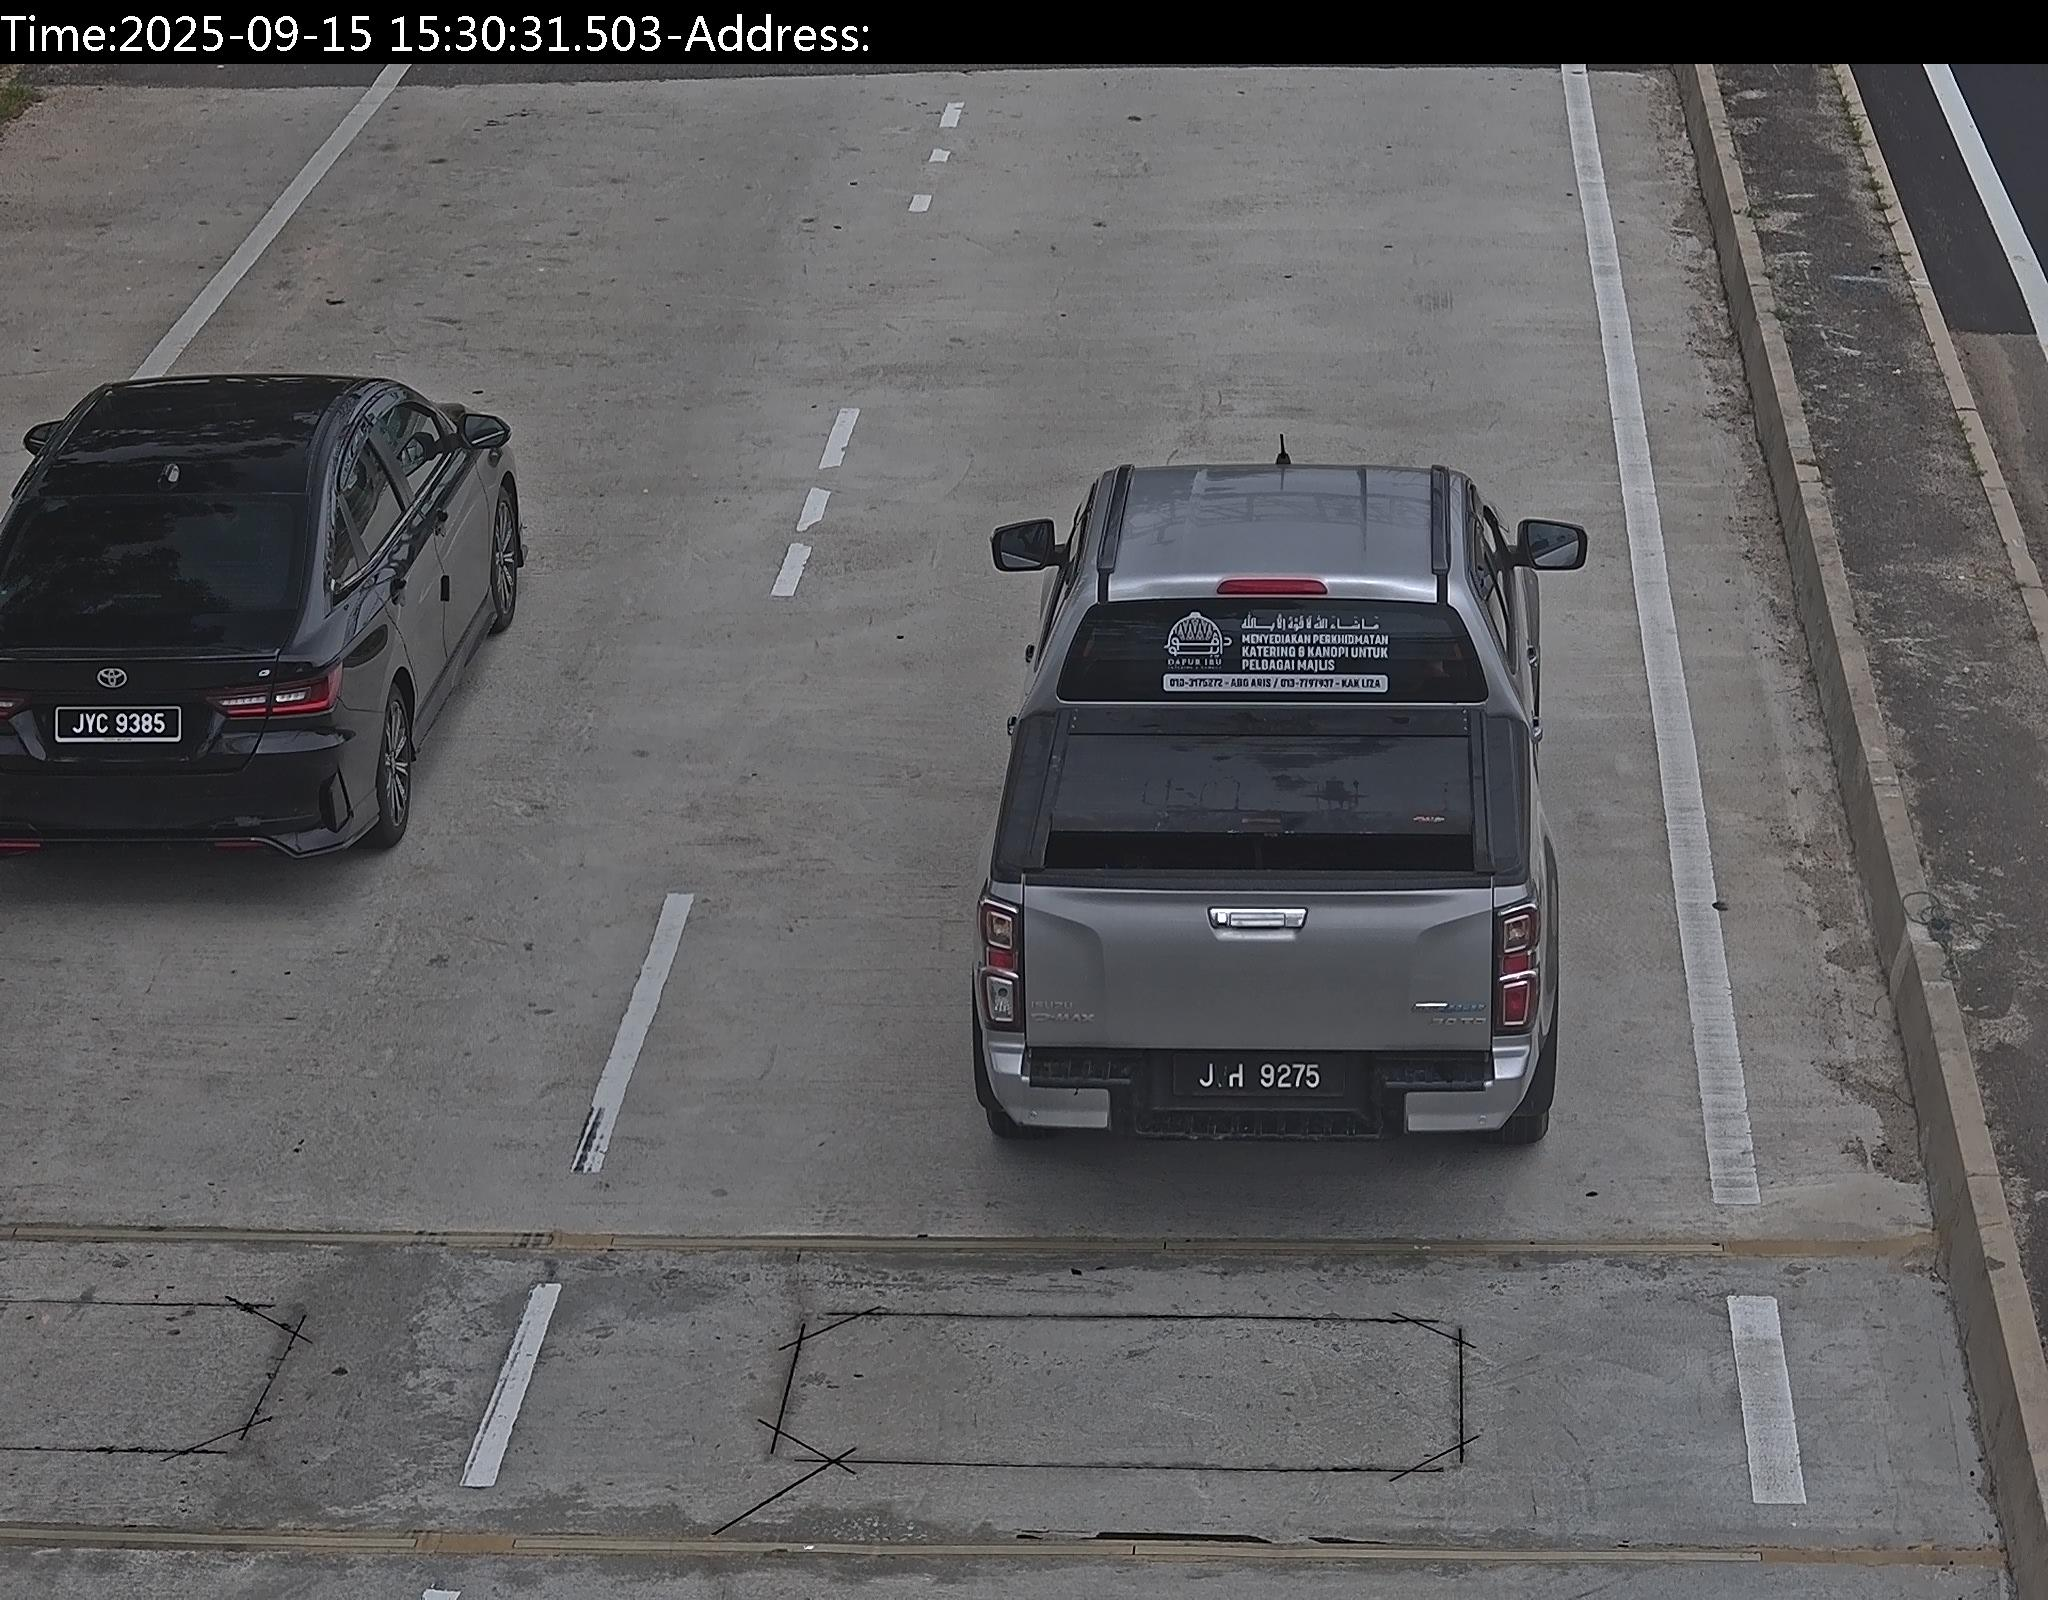broken: (1174, 1056, 1350, 1093)
non broken: (60, 707, 176, 740)
